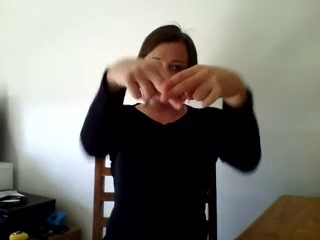F: (115, 53, 231, 116)
